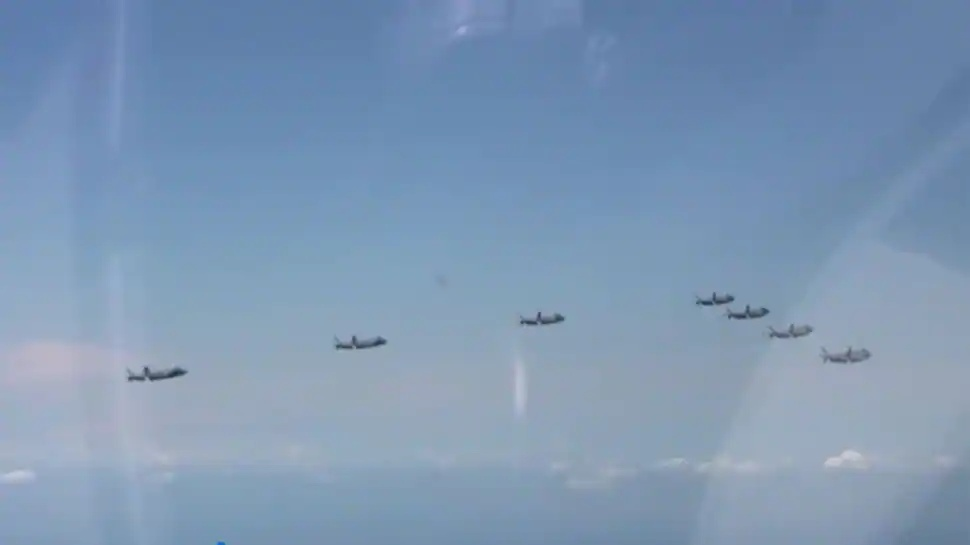J20: (125, 365, 190, 383), (817, 345, 873, 365), (332, 334, 388, 351), (717, 304, 771, 321), (764, 322, 816, 339), (692, 290, 735, 309), (518, 310, 566, 327)
